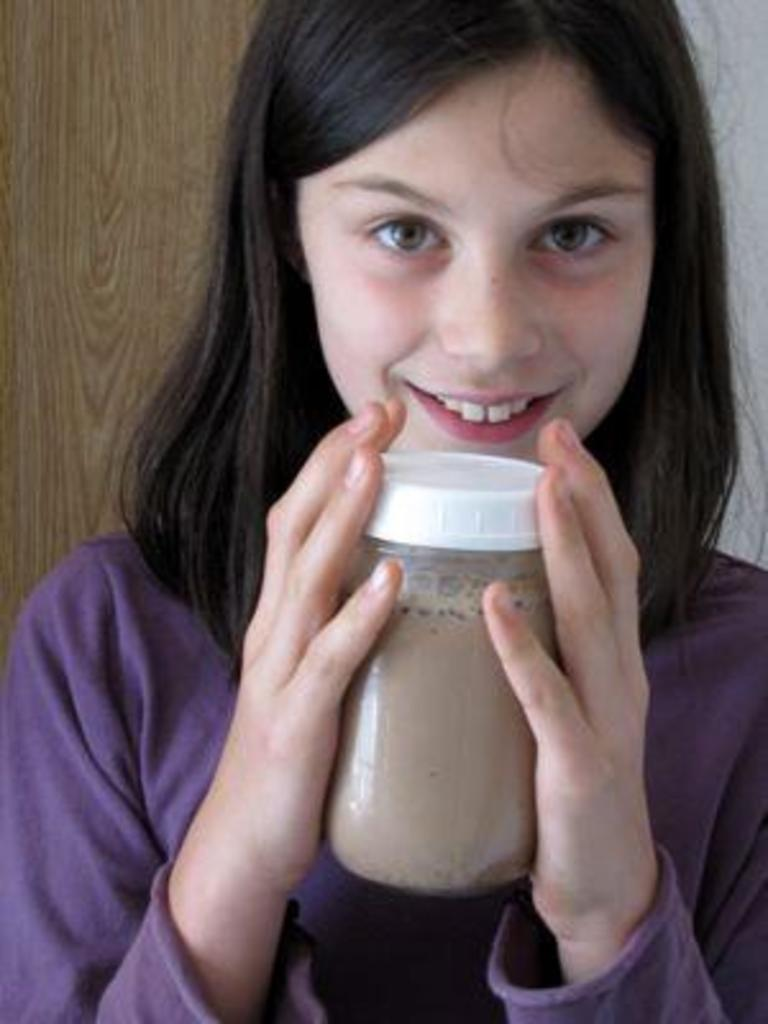Human_hand: (201, 399, 403, 902), (481, 419, 652, 936)
